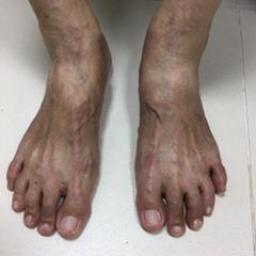Dorsal View -Both Feet-: (2, 20, 239, 239)
